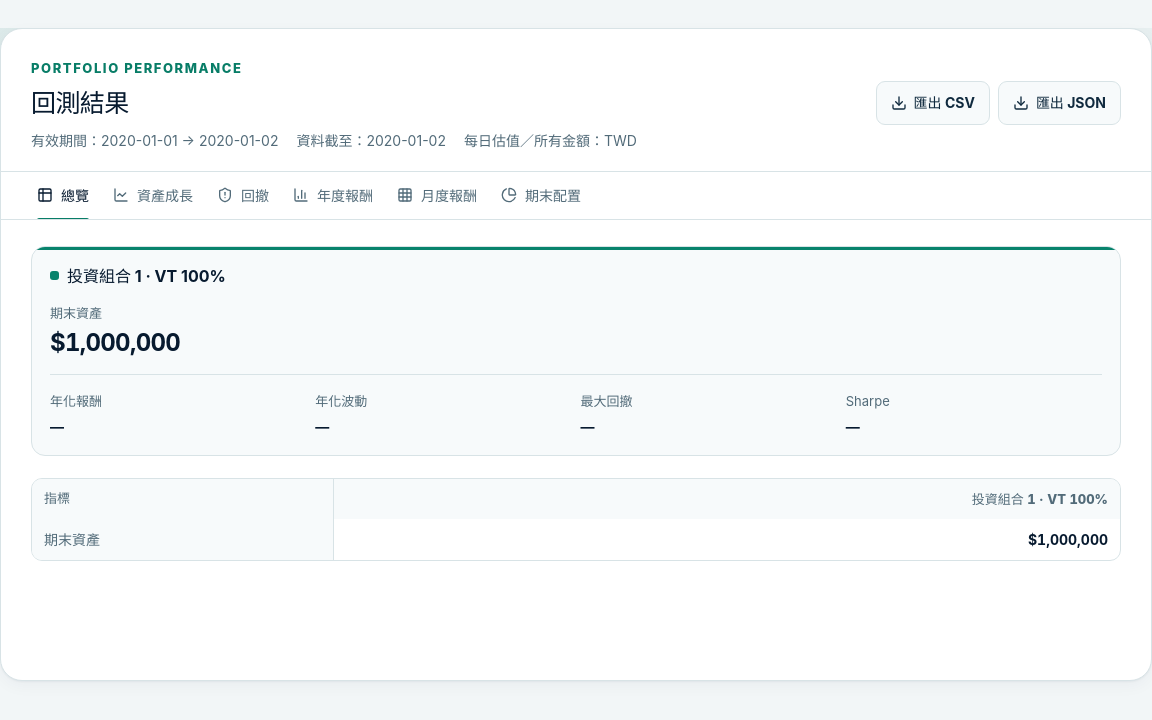
Test case: ResultsDashboard growth scale › disables log scale when the series includes zero
Click the tab "資產成長" at (153, 195), box [101, 172, 205, 218]
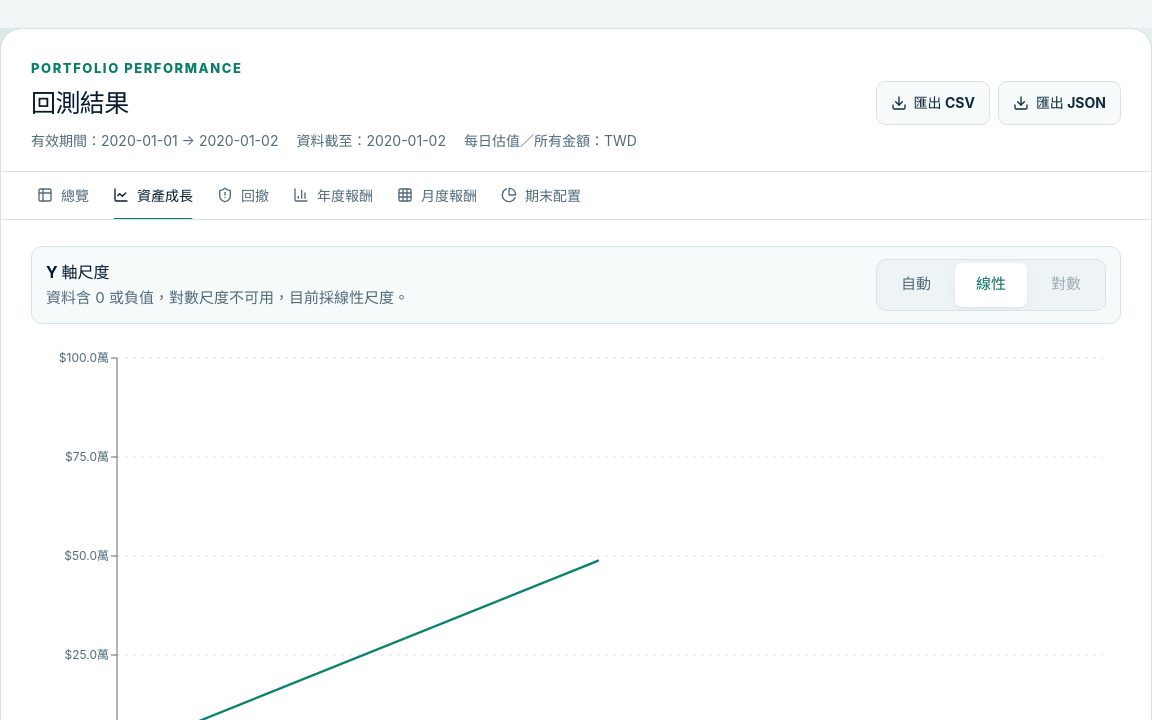
Expected: the button "對數" is disabled, [1030, 262, 1102, 306]
Expected: the message shows "資料含 0 或負值", [46, 288, 409, 307]
